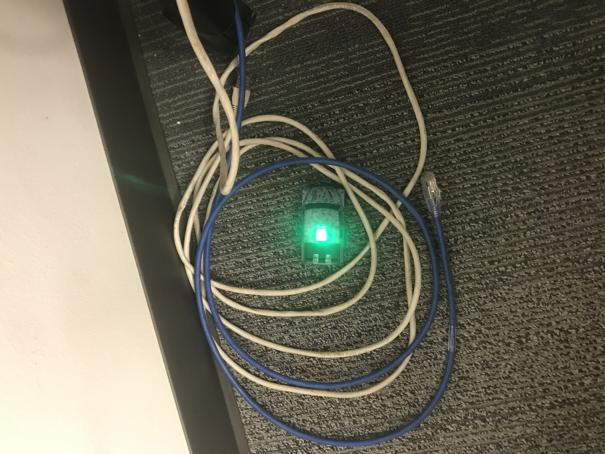MXT: (298, 184, 349, 267)
